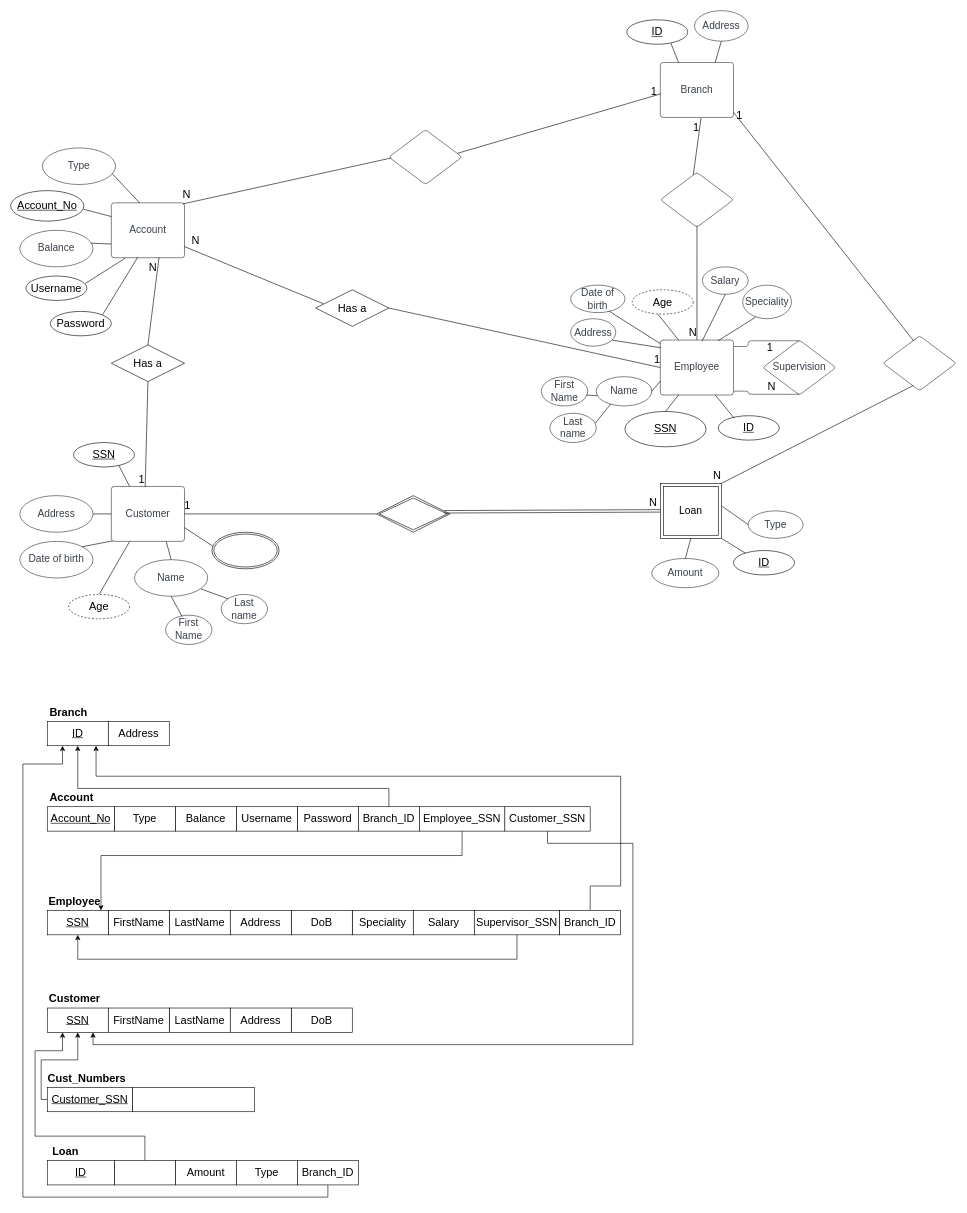
The diagram is 967 pixels wide and 1213 high, and some of its shapes have lost their labels. The centre of each missing label's shape, as x and y in pixels:
"Cust_Phone_Numbers" goes at [193,1099].
"Cust_SSN" goes at [144,1172].
"Phone Number" goes at [245,550].
"Related" goes at [425,156].
"Related to" goes at [919,363].
"Request" goes at [413,513].
"Work" goes at [696,199].
